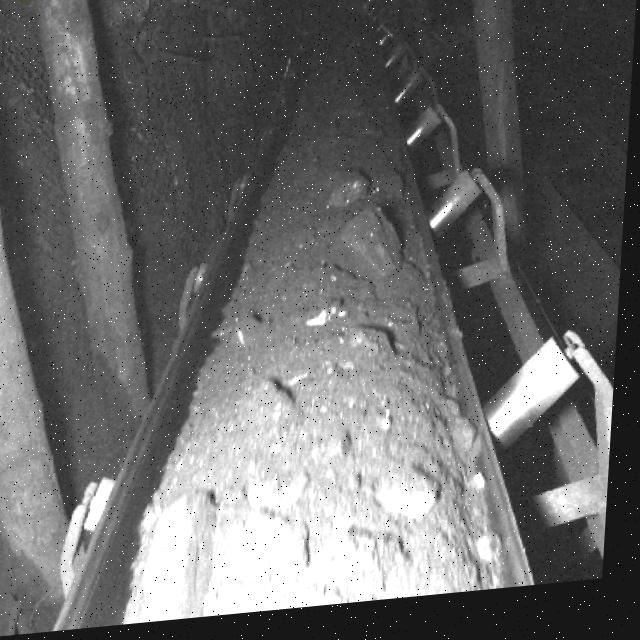large_sized_coal: (153, 498, 219, 626), (343, 209, 412, 286), (375, 472, 448, 531), (325, 174, 372, 218)
